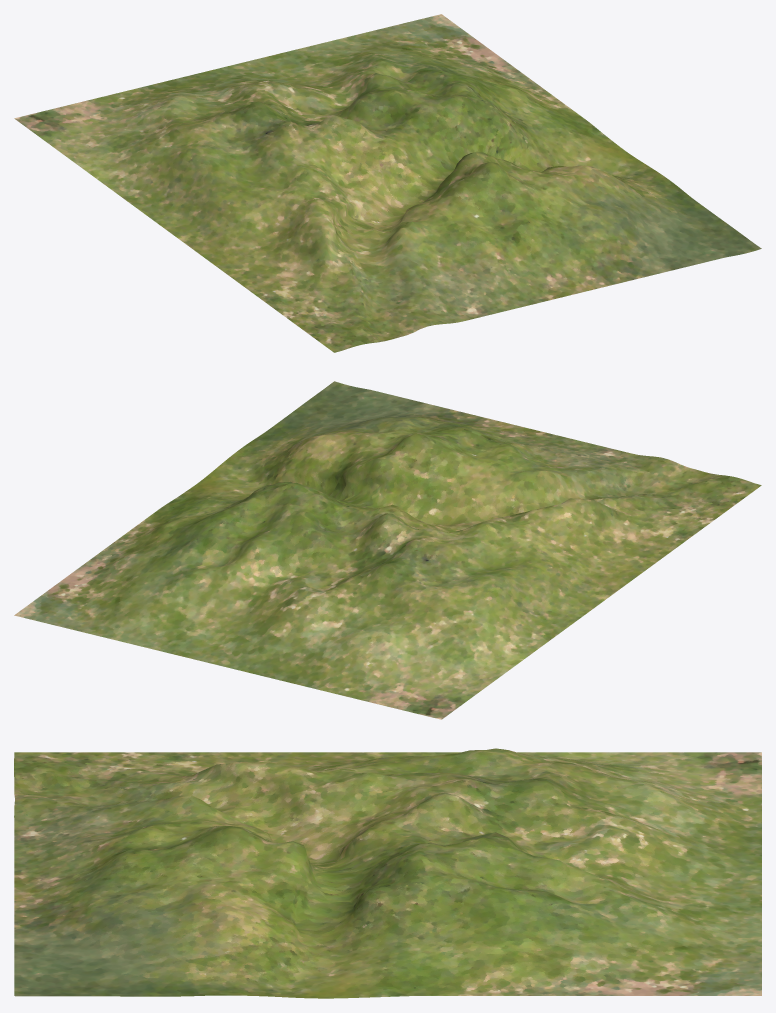
Rendered from mountain.fbx.
3 renders of one model, top to bottom at view 1: azimuth 30°, elevation 25°; view 2: azimuth 150°, elevation 25°; view 3: azimuth 270°, elevation 25°, orthographic. The views are drawn at different scales.
Parts seen in each view (by area): view 1: Landscape; view 2: Landscape; view 3: Landscape.
Part boxes in pixels (<box>): Landscape: <box>14,14,761,352</box>; Landscape: <box>14,381,761,719</box>; Landscape: <box>14,748,761,998</box>.
Bounding box in the file's own units: 6467 × 909 × 8386.
Materials: 1 (1 with a texture image).
